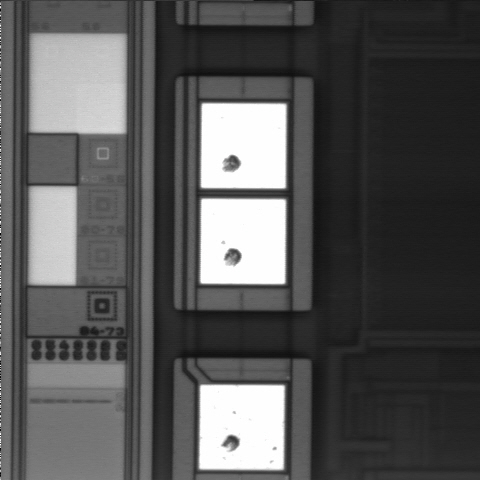pad: (201, 103, 287, 189), (200, 198, 286, 284), (200, 385, 284, 469)
